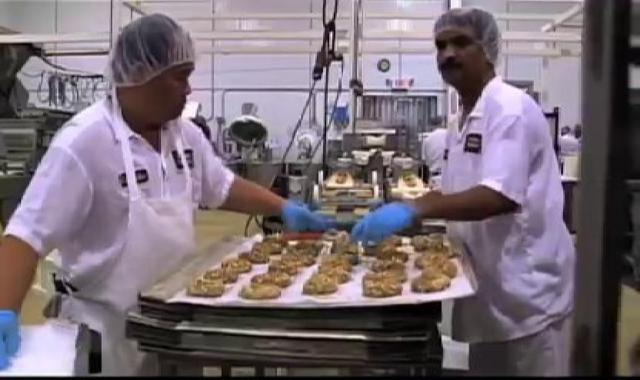hairnet: (96, 13, 207, 89), (427, 3, 514, 67)
